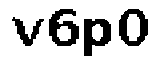0: (116, 6, 152, 52)
6: (47, 6, 79, 49)
p: (81, 16, 114, 59)
v: (8, 16, 44, 50)
